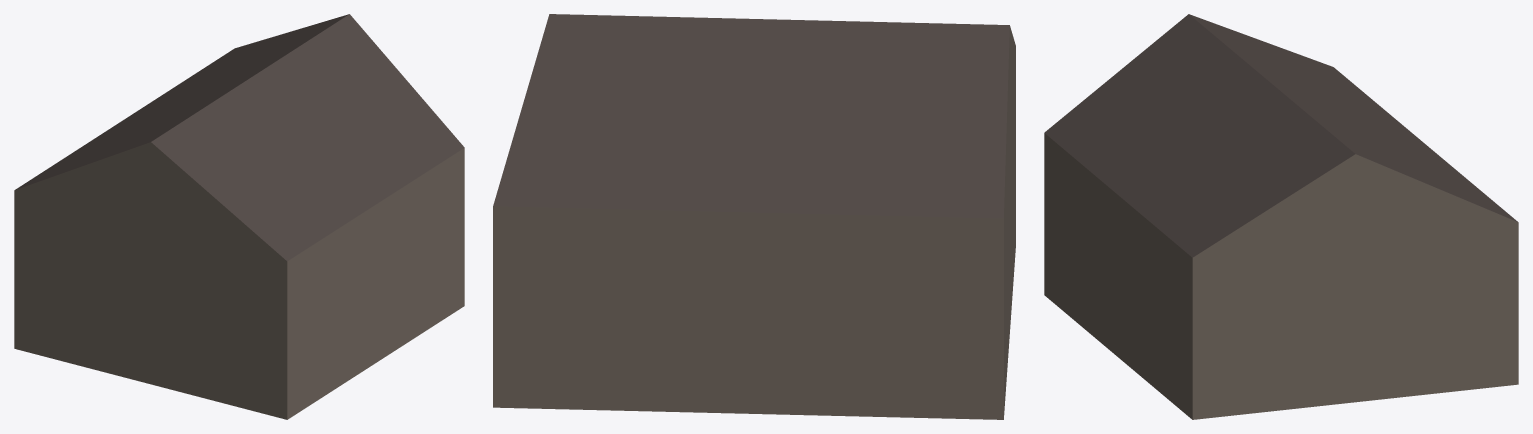
3 renders of one model, left to right at view 1: azimuth 30°, elevation 25°; view 2: azimuth 150°, elevation 25°; view 3: azimuth 270°, elevation 25°, orthographic. The views are drawn at different scales.
Parts seen in each view (by area): view 1: HP-w1197052535; view 2: HP-w1197052535; view 3: HP-w1197052535.
Part boxes in pixels (bbox=[...]): HP-w1197052535: bbox=[14, 14, 464, 419]; HP-w1197052535: bbox=[493, 14, 1015, 419]; HP-w1197052535: bbox=[1044, 14, 1518, 419].
Size of the model in its own units: 22.71 by 13.78 by 23.87.
